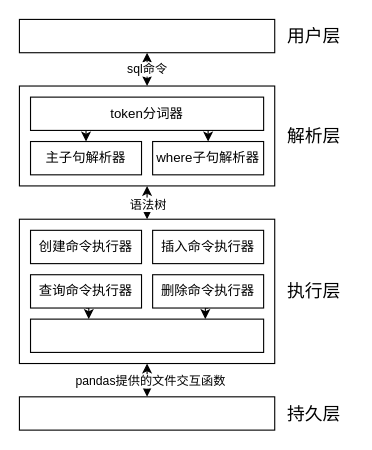
This 372x450 diagram has some shape labels left out. The shapes that lost their labels are listed below. From the top down, each one's centre as x and y in pixels, then its label:
[146,35]: HTTP接口
[146,335]: where条件筛选器
[146,413]: 文件系统
